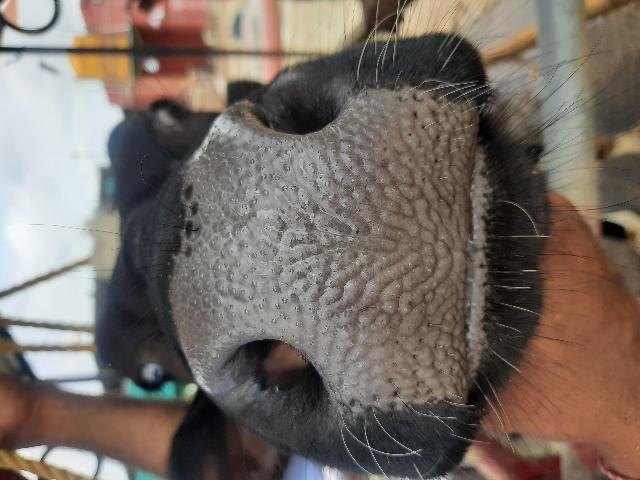Muzzle: (198, 144, 460, 334)
